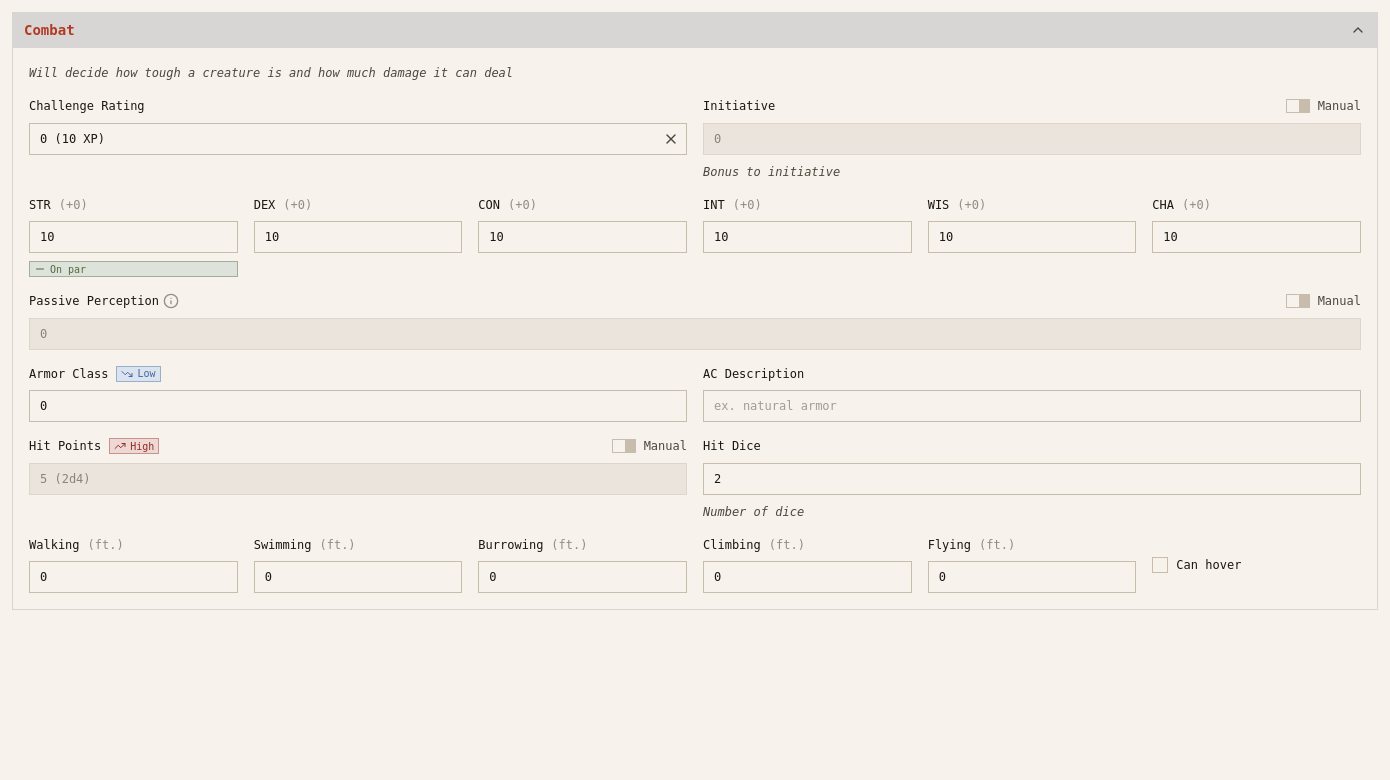
CombatForm — custom HP › enables the HP input and flips custom_hp when the Manual switch is toggled
Click the switch named "Manual hit points" in the row of "High" at (624, 446), box [612, 439, 636, 453]
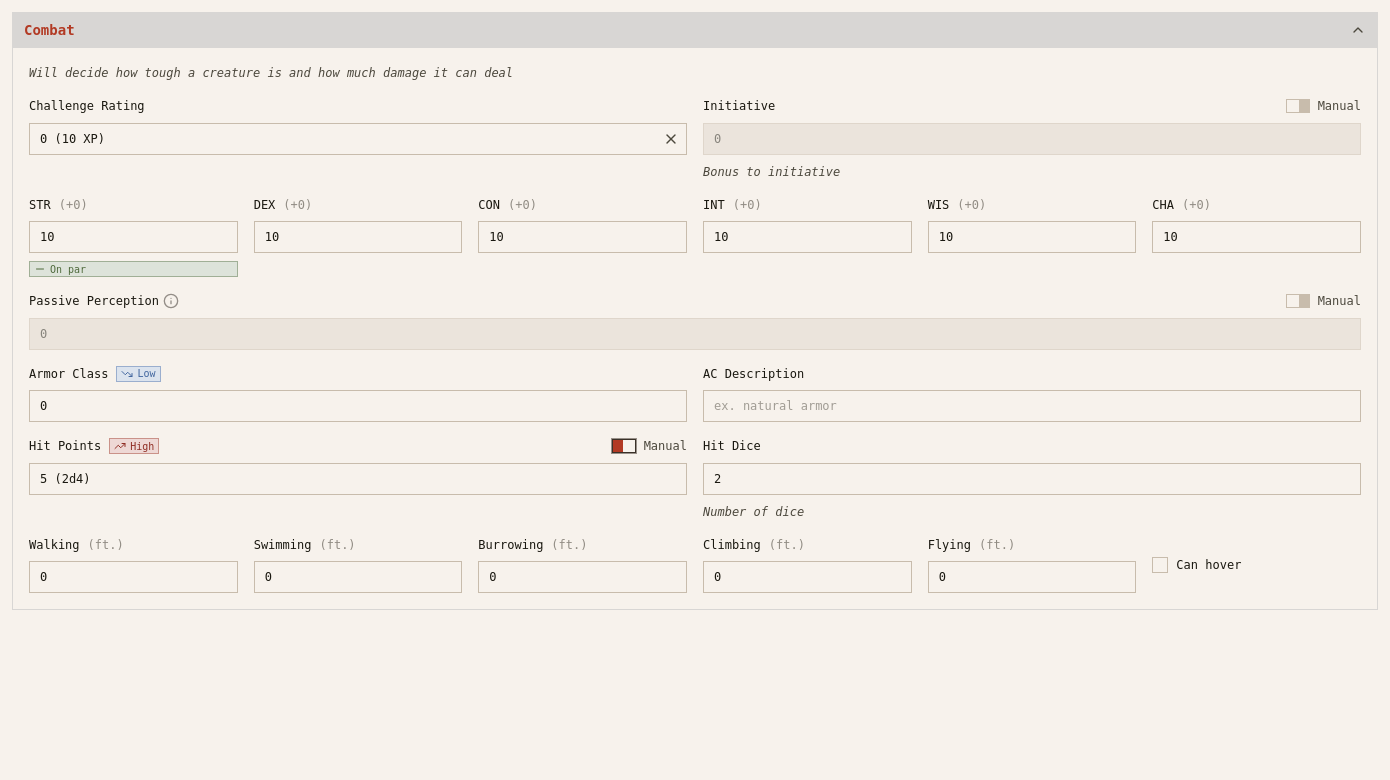
Now the field labelled "Hit Points" is enabled, box [29, 462, 687, 494]
